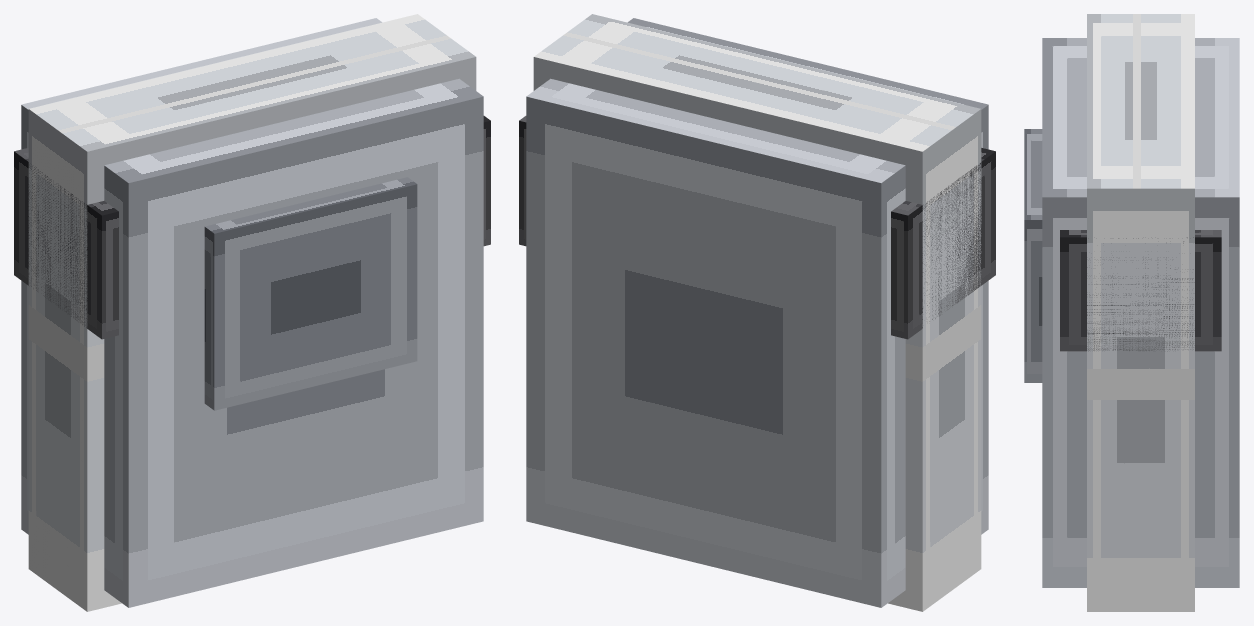
3 renders of one model, left to right at view 1: azimuth 30°, elevation 25°; view 2: azimuth 150°, elevation 25°; view 3: azimuth 270°, elevation 25°, orthographic. The views are drawn at different scales.
Parts seen in each view (by area): view 1: iron_chest; view 2: iron_chest; view 3: iron_chest.
Part boxes in pixels (left/top/right/bottom): iron_chest: left=14, top=14, right=490, bottom=611; iron_chest: left=519, top=14, right=995, bottom=611; iron_chest: left=1024, top=14, right=1239, bottom=611.
Bounding box in the file's own units: 0.46 × 0.52 × 0.24.
Materials: 4 (4 with a texture image).
